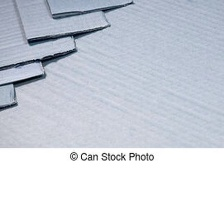book: (0, 0, 88, 61), (12, 0, 120, 44), (38, 0, 142, 20), (0, 59, 53, 88), (0, 83, 28, 113)
